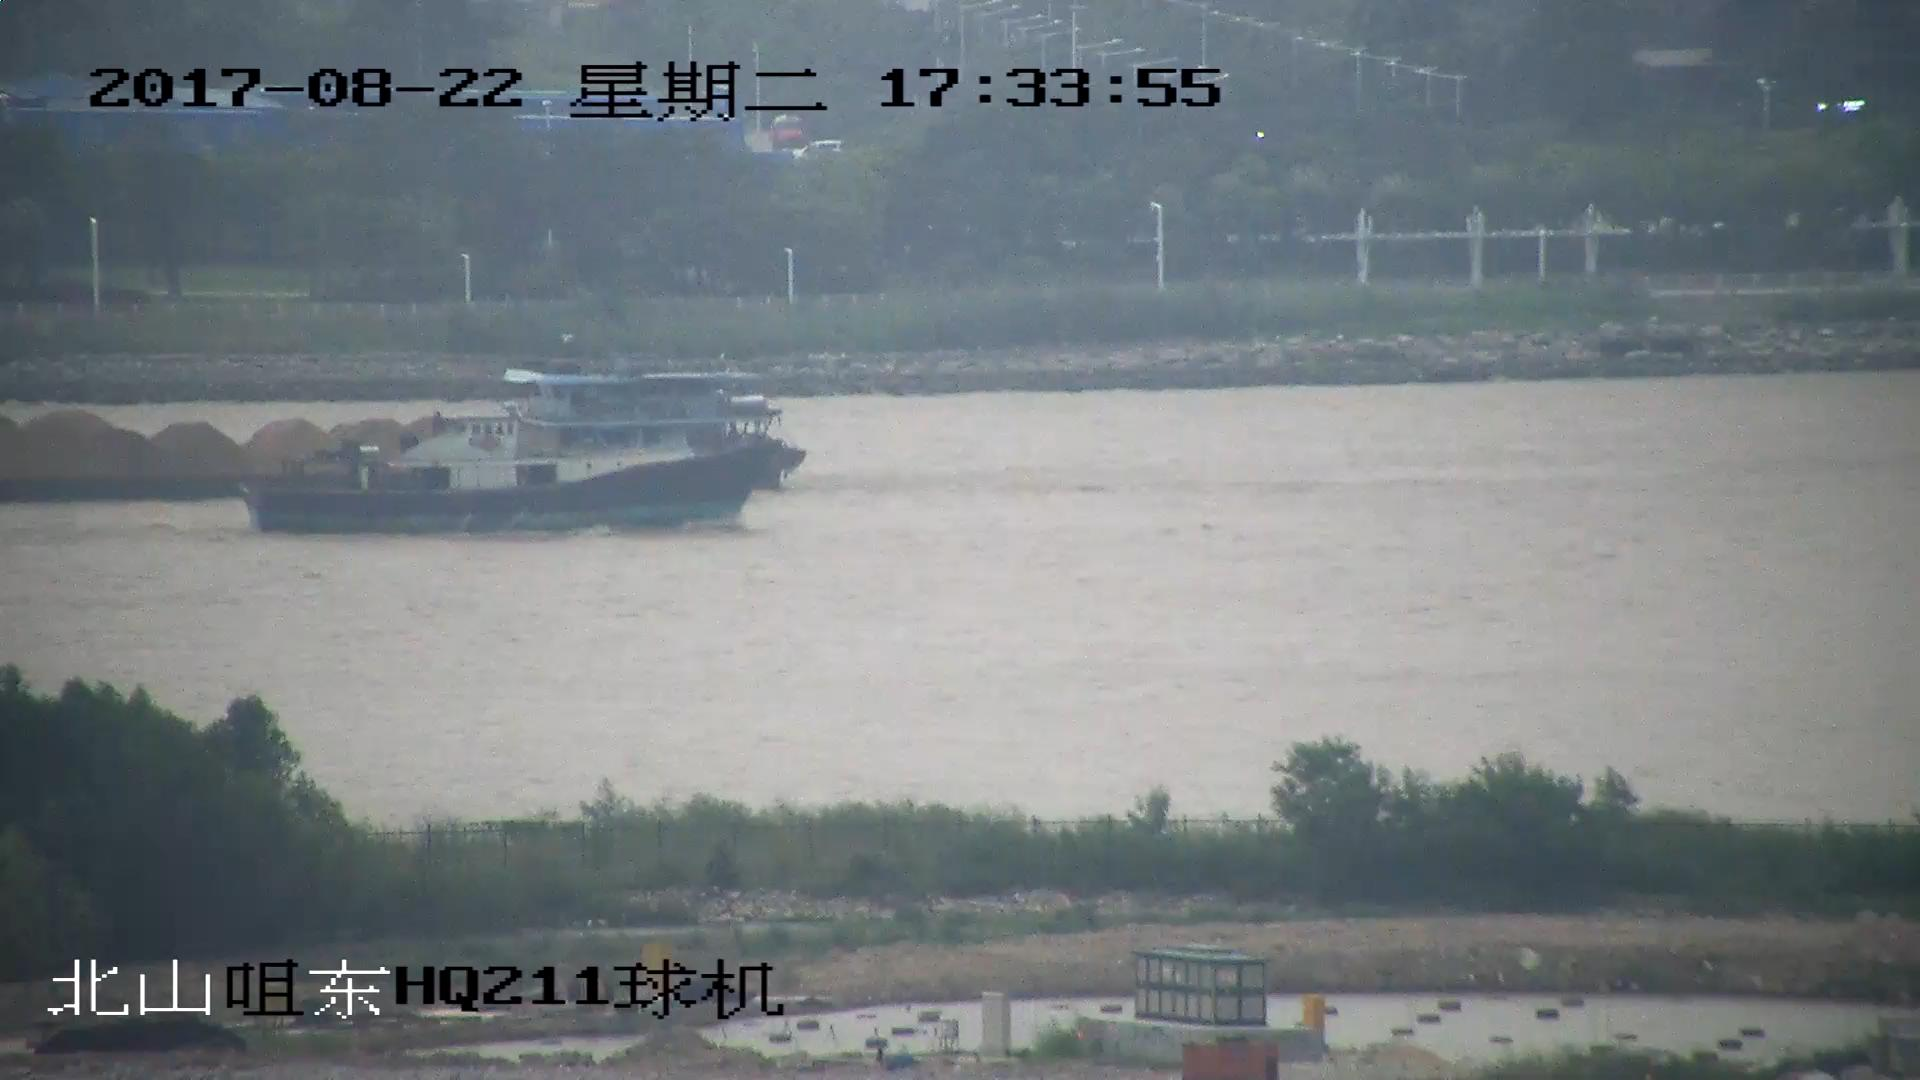fishing boat: (240, 414, 768, 537)
ore carrier: (1, 370, 808, 507)
